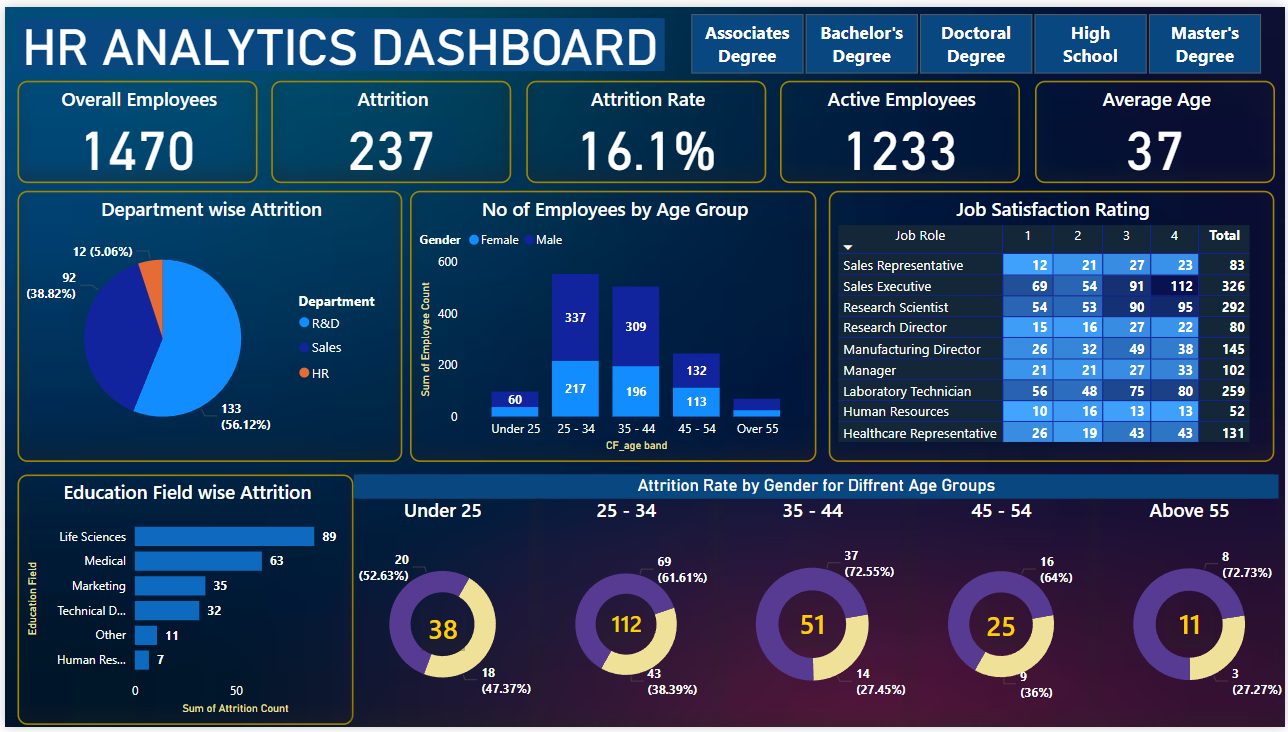

The dashboard page shown, as its layout file describes it:
{"tool":"powerbi","page":{"name":"Page 1","canvas":[1280,720],"ordinal":0},"visuals":[{"type":"card","title":"Overall Employees","fields":{"Values":["Sum(HR data.Employee Count)"]},"box":[12.2,73.3,240,102.2],"z":0},{"type":"card","title":"Attrition","fields":{"Values":["Sum(HR data.Attrition Count)"]},"box":[266.7,73.3,240,102.2],"z":1000},{"type":"card","title":"Attrition Rate","fields":{"Values":["HR data.Attrition Rate"]},"box":[521.1,73.3,240,102.2],"z":2000},{"type":"card","title":"Active Employees","fields":{"Values":["HR data.Active Employees"]},"box":[775.6,73.3,240,102.2],"z":3000},{"type":"card","title":"Average Age","fields":{"Values":["Avg(HR data.Age)"]},"box":[1030,73.3,240,102.2],"z":4000},{"type":"pieChart","title":"Department wise Attrition","fields":{"Category":["HR data.Department"],"Y":["Sum(HR data.Attrition Count)"]},"box":[12.2,183.3,384.4,271.1],"z":5000},{"type":"columnChart","title":"No of Employees by Age Group","fields":{"Category":["HR data.CF_age band"],"Y":["Sum(HR data.Employee Count)"],"Series":["HR data.Gender"]},"box":[405.6,183.3,406.7,271.1],"z":6000},{"type":"pivotTable","title":"Job Satisfaction Rating","fields":{"Rows":["HR data.Job Role"],"Columns":["HR data.Job Satisfaction"],"Values":["Sum(HR data.Employee Count)"]},"box":[823.3,183.3,445.6,271.1],"z":7000},{"type":"barChart","title":"Education Field wise Attrition","fields":{"Category":["HR data.Education Field"],"Y":["Sum(HR data.Attrition Count)"]},"box":[12.5,467.5,336.2,250],"z":8000},{"type":"donutChart","title":"Under 25","fields":{"Category":["HR data.Gender"],"Y":["Sum(HR data.Attrition Count)"],"Series":["HR data.CF_age band"]},"box":[345.6,490,185.6,230],"z":9000},{"type":"textbox","title":"Attrition Rate by Gender for Diffrent Age Groups","box":[348.8,467.5,925,23.8],"z":10000},{"type":"donutChart","title":"25 - 34","fields":{"Category":["HR data.Gender"],"Y":["Sum(HR data.Attrition Count)"],"Series":["HR data.CF_age band"]},"box":[531.2,490,180,230],"z":11000},{"type":"donutChart","title":"35 - 44","fields":{"Category":["HR data.Gender"],"Y":["Sum(HR data.Attrition Count)"],"Series":["HR data.CF_age band"]},"box":[711.2,490,192.5,230],"z":12000},{"type":"donutChart","title":"45 - 54","fields":{"Category":["HR data.Gender"],"Y":["Sum(HR data.Attrition Count)"],"Series":["HR data.CF_age band"]},"box":[903.8,490,185,230],"z":13000},{"type":"donutChart","title":"Above 55","fields":{"Category":["HR data.Gender"],"Y":["Sum(HR data.Attrition Count)"],"Series":["HR data.CF_age band"]},"box":[1088.8,490,191.2,230],"z":14000},{"type":"card","title":"Overall Employees","fields":{"Values":["Sum(HR data.Attrition Count)"]},"box":[416.2,601.2,43.8,42.5],"z":15000},{"type":"card","title":"Overall Employees","fields":{"Values":["Sum(HR data.Attrition Count)"]},"box":[598.8,598.8,46.2,38.8],"z":16000},{"type":"card","title":"Overall Employees","fields":{"Values":["Sum(HR data.Attrition Count)"]},"box":[783.8,593.8,47.5,47.5],"z":17000},{"type":"card","title":"Overall Employees","fields":{"Values":["Sum(HR data.Attrition Count)"]},"box":[975,598.8,42.5,42.5],"z":18000},{"type":"card","title":"Overall Employees","fields":{"Values":["Sum(HR data.Attrition Count)"]},"box":[1161.2,593.8,47.5,47.5],"z":19000},{"type":"textbox","title":"HR ANALYTICS DASHBOARD","box":[12.5,11.2,647.5,52.5],"z":20000},{"type":"slicer","fields":{"Values":["HR data.Education"]},"box":[660,0,620,73.8],"z":21000}]}

Visuals, with their boxes in screenshot pixels (x1, y1, x2, y2), scaled from the page's 1280x720 canvas onto the 1288x732 screenshot:
"Overall Employees" card: [left=12, top=75, right=254, bottom=178]
"Attrition" card: [left=268, top=75, right=510, bottom=178]
"Attrition Rate" card: [left=524, top=75, right=766, bottom=178]
"Active Employees" card: [left=780, top=75, right=1022, bottom=178]
"Average Age" card: [left=1036, top=75, right=1278, bottom=178]
"Department wise Attrition" pieChart: [left=12, top=186, right=399, bottom=462]
"No of Employees by Age Group" columnChart: [left=408, top=186, right=817, bottom=462]
"Job Satisfaction Rating" pivotTable: [left=828, top=186, right=1277, bottom=462]
"Education Field wise Attrition" barChart: [left=13, top=475, right=351, bottom=729]
"Under 25" donutChart: [left=348, top=498, right=535, bottom=731]
"Attrition Rate by Gender for Diffrent Age Groups" textbox: [left=351, top=475, right=1282, bottom=499]
"25 - 34" donutChart: [left=535, top=498, right=716, bottom=731]
"35 - 44" donutChart: [left=716, top=498, right=909, bottom=731]
"45 - 54" donutChart: [left=909, top=498, right=1096, bottom=731]
"Above 55" donutChart: [left=1096, top=498, right=1287, bottom=731]
"Overall Employees" card: [left=419, top=611, right=463, bottom=654]
"Overall Employees" card: [left=603, top=609, right=649, bottom=648]
"Overall Employees" card: [left=789, top=604, right=836, bottom=652]
"Overall Employees" card: [left=981, top=609, right=1024, bottom=652]
"Overall Employees" card: [left=1168, top=604, right=1216, bottom=652]
"HR ANALYTICS DASHBOARD" textbox: [left=13, top=11, right=664, bottom=65]
slicer - HR data.Education: [left=664, top=0, right=1287, bottom=75]
